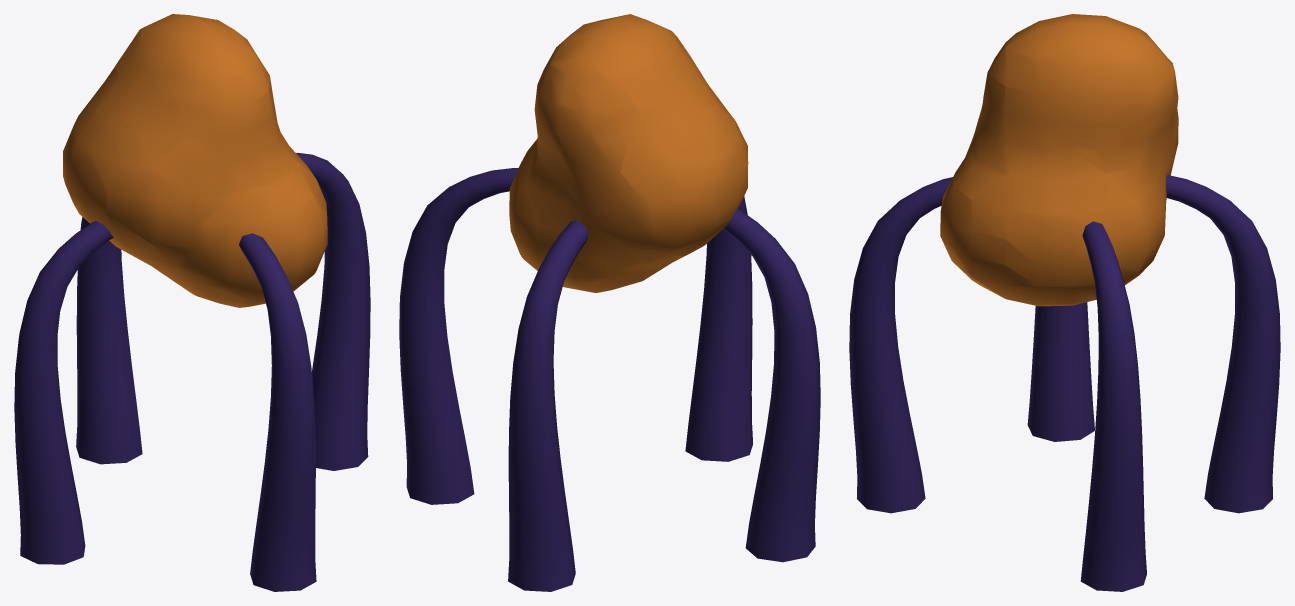
The model's file is Tree_Blob_3.glb.
3 renders of one model, left to right at view 1: azimuth 30°, elevation 25°; view 2: azimuth 150°, elevation 25°; view 3: azimuth 270°, elevation 25°, orthographic. The views are drawn at different scales.
Parts seen in each view (by area): view 1: Tree_Blob_3; view 2: Tree_Blob_3; view 3: Tree_Blob_3.
Boxes of the visible parts, x1=… form: Tree_Blob_3: x1=14, y1=14, x2=370, y2=591; Tree_Blob_3: x1=399, y1=14, x2=820, y2=591; Tree_Blob_3: x1=849, y1=14, x2=1280, y2=591.
Size of the model in its own units: 2.8 by 3.42 by 2.77.
Materials: 1 (1 with a texture image).
